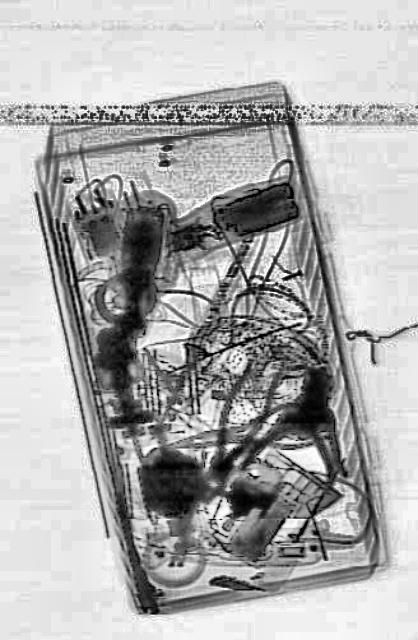Pliers: (195, 337, 287, 498), (160, 391, 332, 471)
